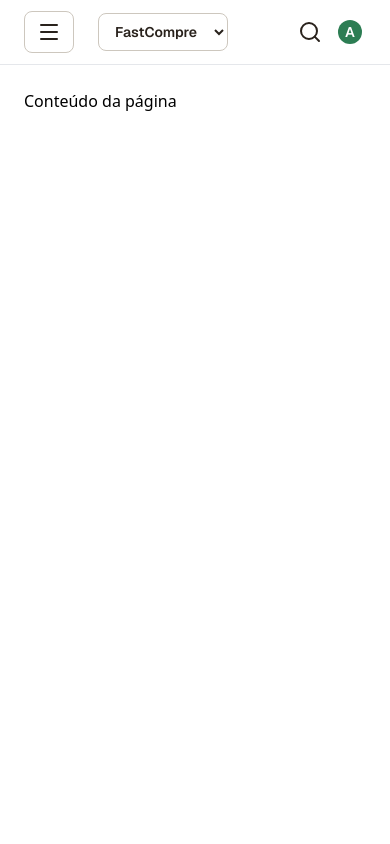
Scenario: AuthenticatedShell › UXA-011 — skip link e landmarks › jest-axe: nenhuma violação no shell completo com o drawer mobile (UXA-008) aberto
The image size is (390, 844).
Step 1. Click the 1st button named "Menu" → (49, 32), box [24, 11, 74, 53]
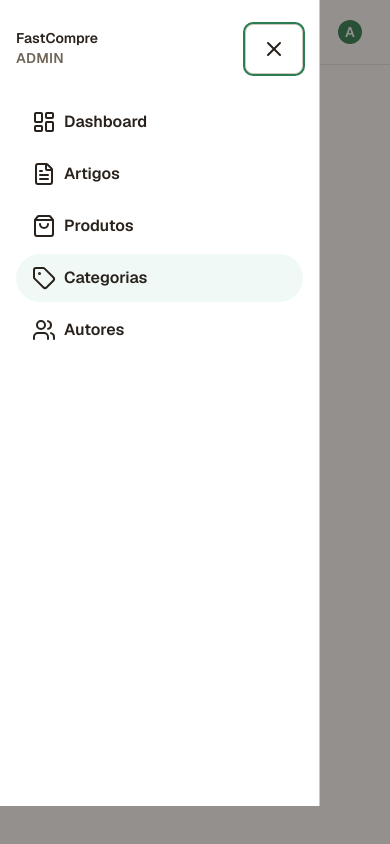
Check: the dialog named "Menu de navegação" is shown
